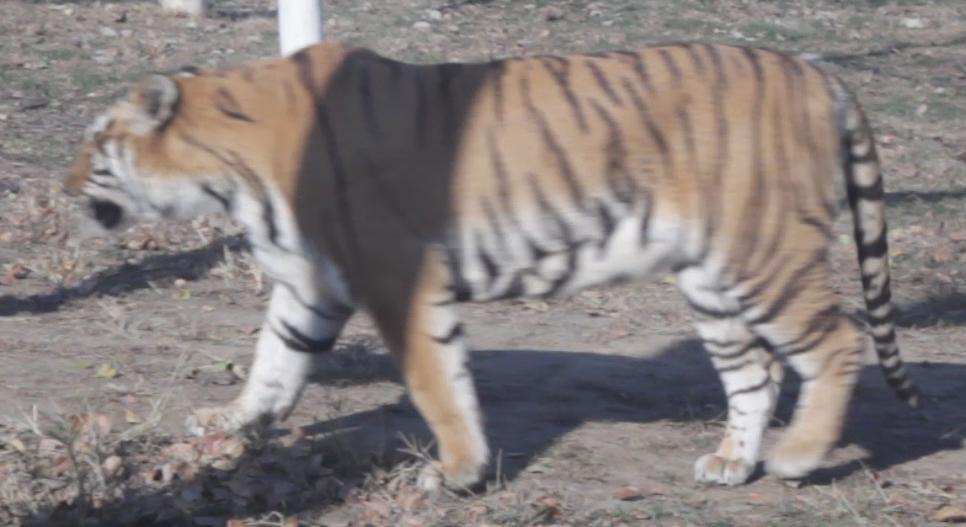tiger: (67, 41, 915, 489)
